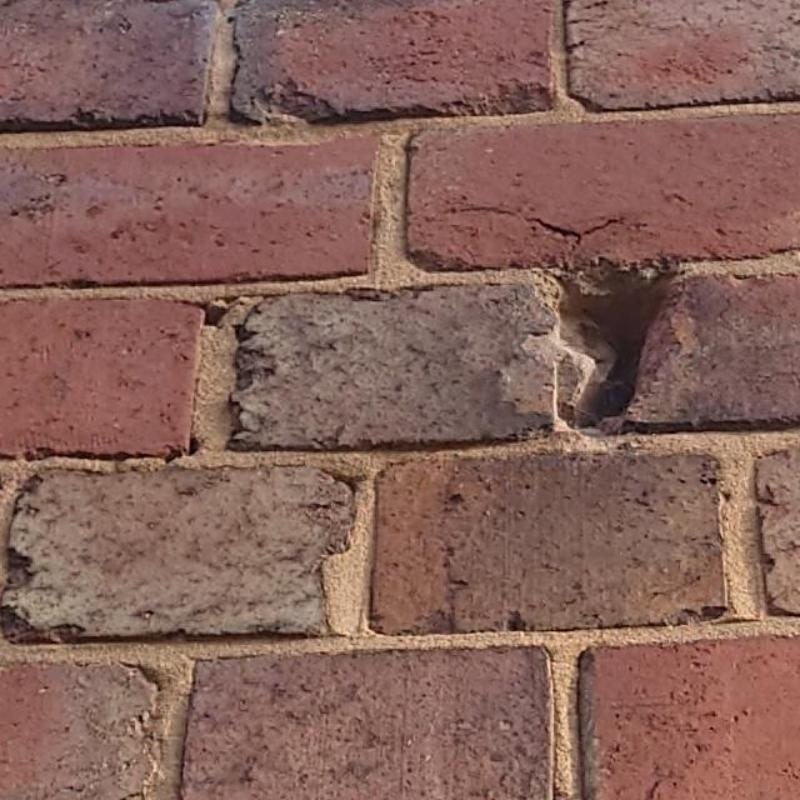pothole: (555, 271, 668, 428), (524, 219, 620, 251)
